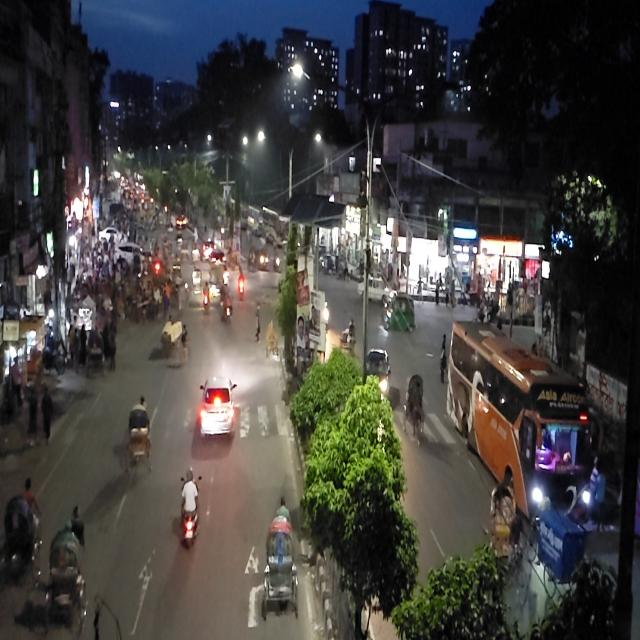white: (199, 373, 236, 445)
